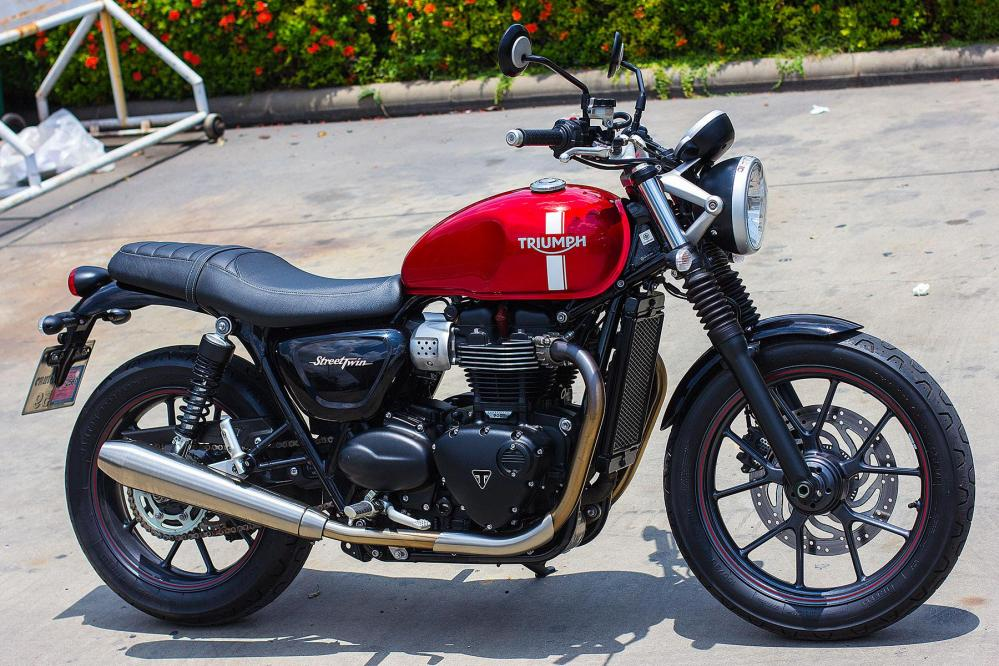motorcycle: (55, 119, 973, 638)
